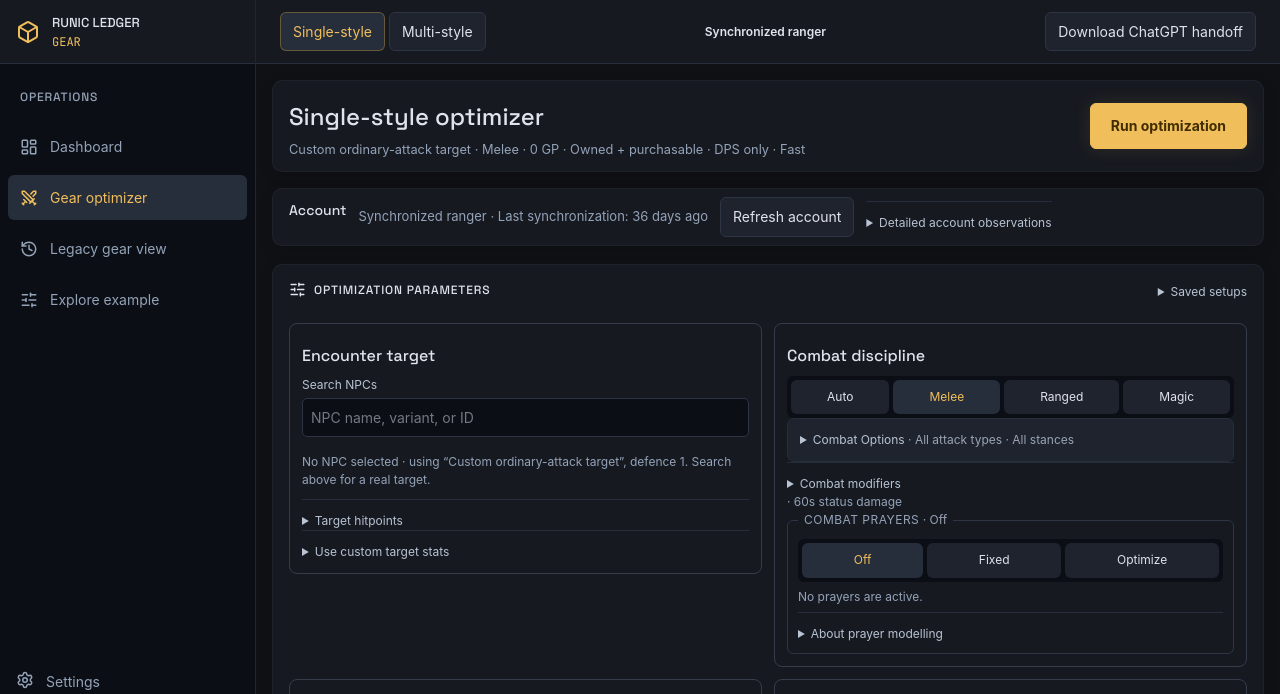
Test case: says when excluded items are hidden from a browse page
Click the button "Run optimization": (1168, 126) [1090,103,1247,149]
(page scrolled)
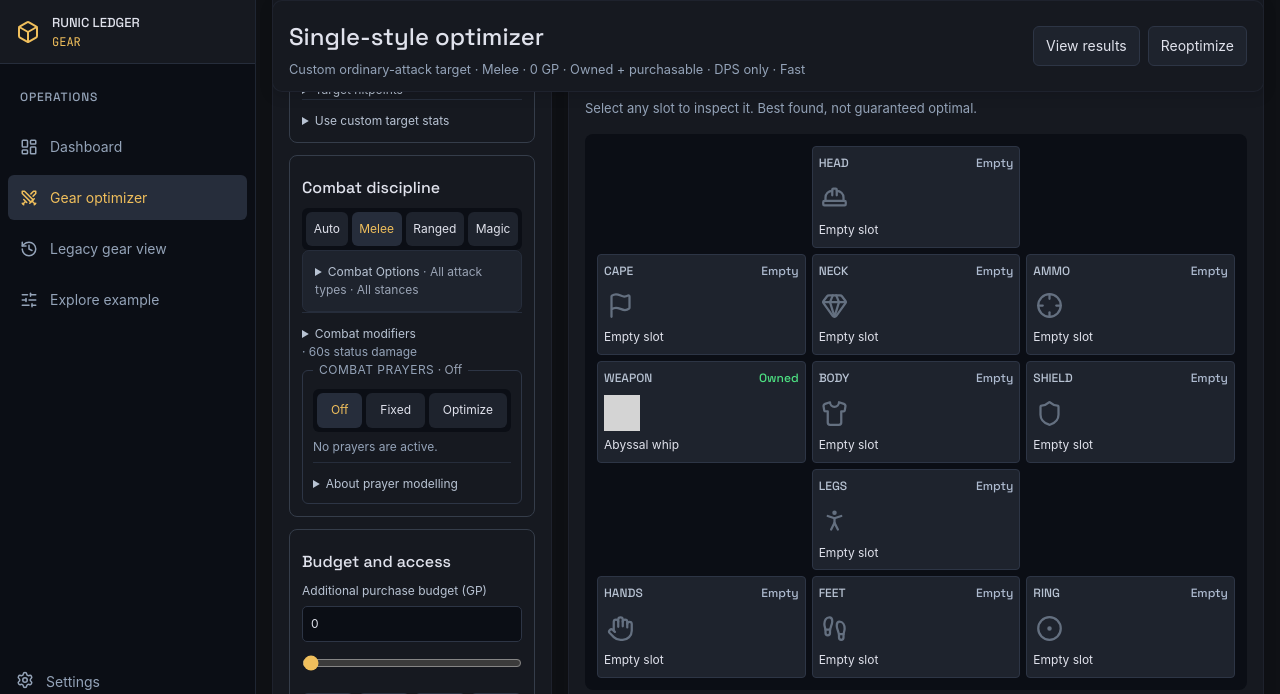
Click the button "weapon Owned Abyssal whip": (701, 412) [597,361,806,463]
(page scrolled)
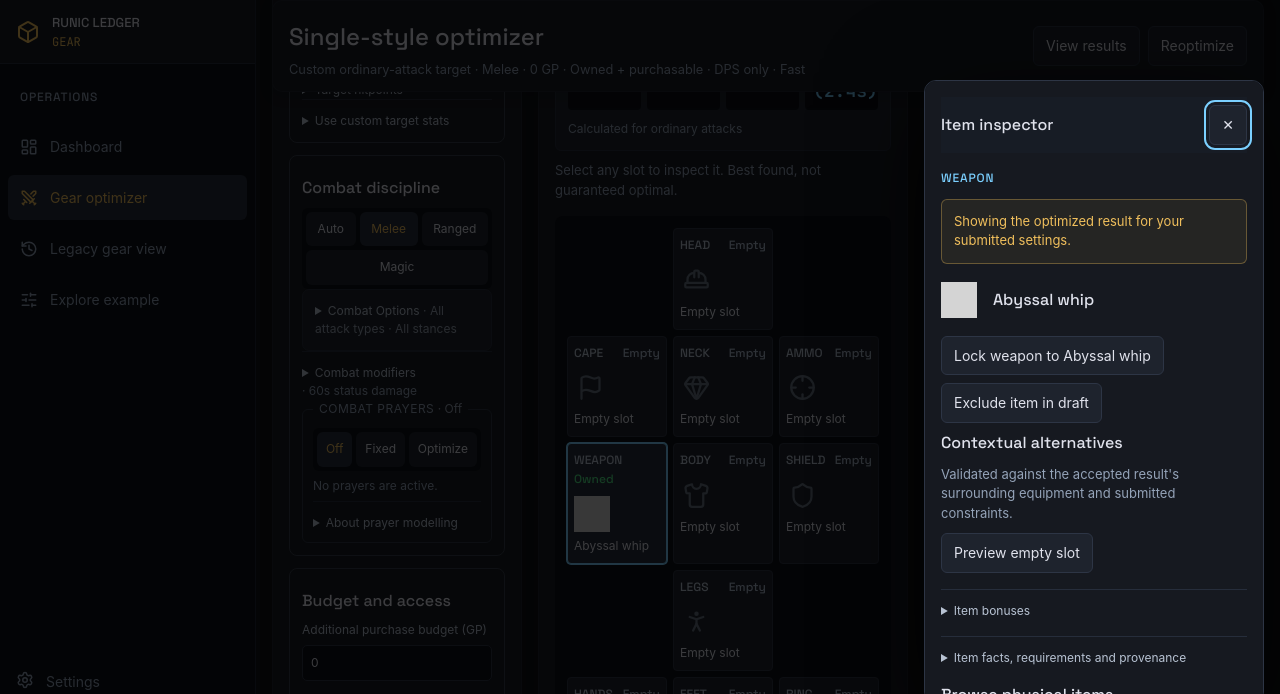
Click the button "Exclude item in draft": (1021, 403) [941,383,1102,423]
(page scrolled)
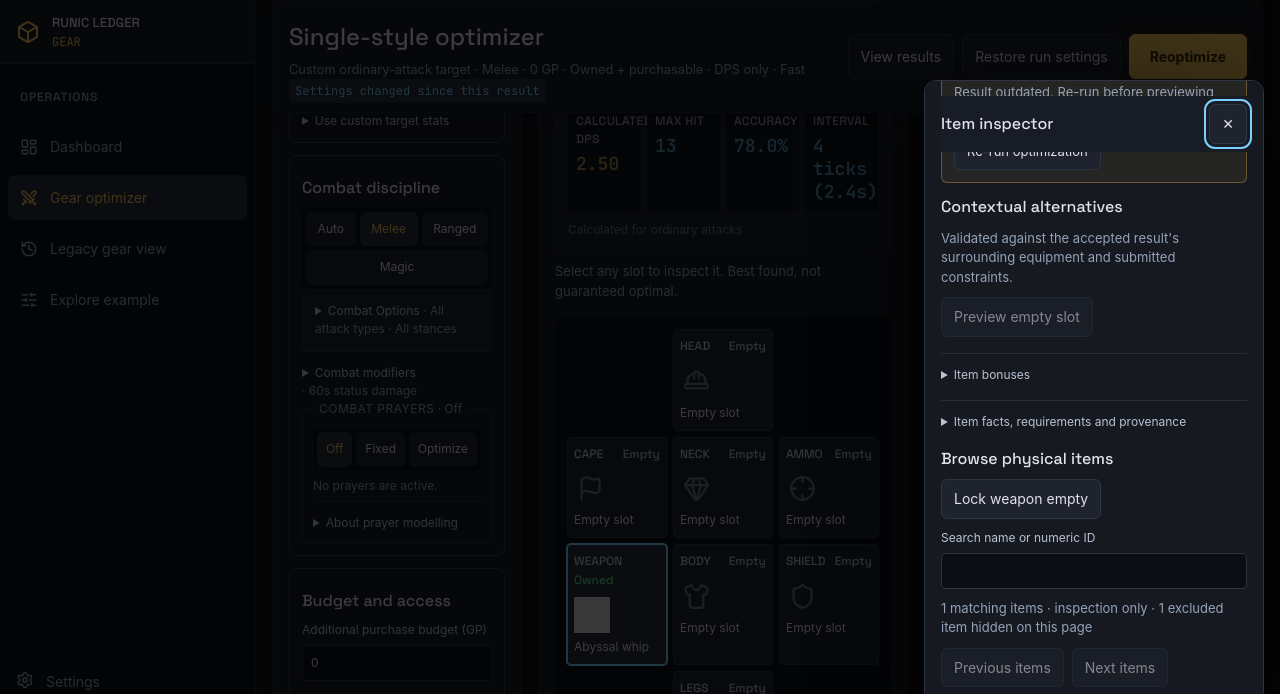
Check: the text "1 matching items · inspection only · 1 excluded item hidden on this page" is shown, box [941,599,1247,638]
